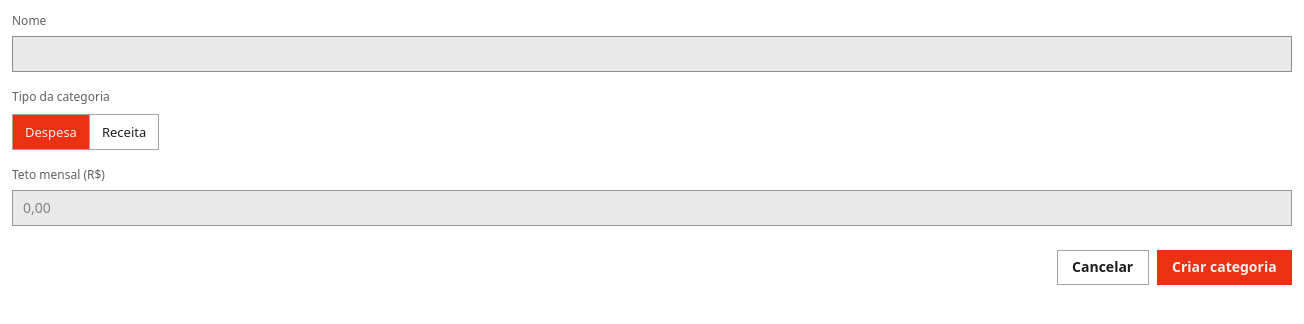
Scenario: CategoryForm › mode="create" (padrão) › teto em formato inválido bloqueia o submit com mensagem no campo
Type "Alimentação" into the field labelled "Nome" at point(652, 54), box [12,36,1292,72]
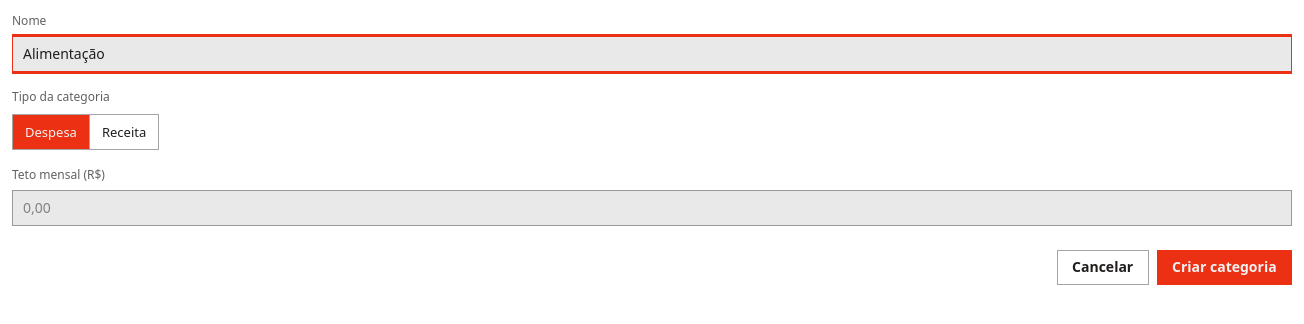
Type "abc" into the field labelled "Teto mensal (R$)" at point(652, 208), box [12,190,1292,226]
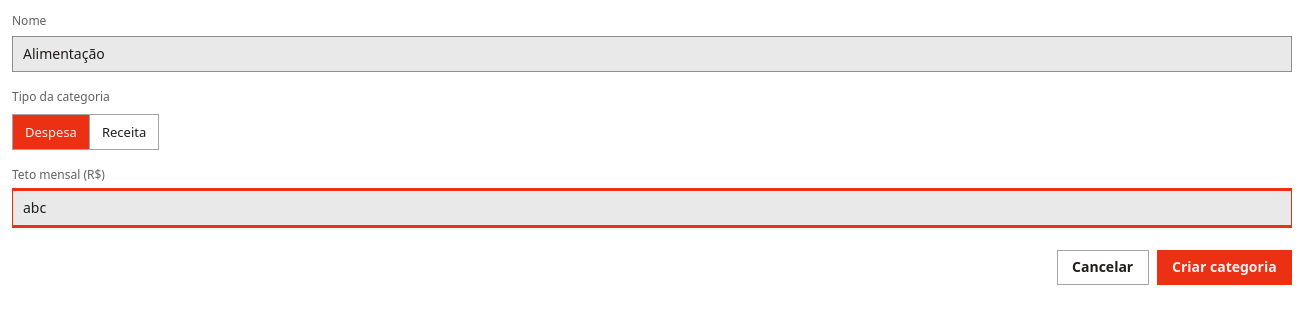
Click the button "Criar categoria" at point(1224, 267), box [1157,250,1292,285]
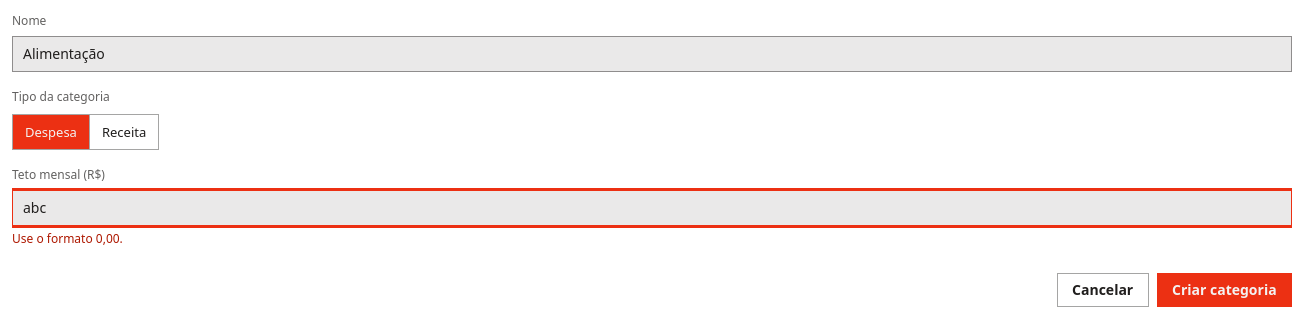
Expected: the text "Use o formato 0,00." is shown, [12,230,123,247]
